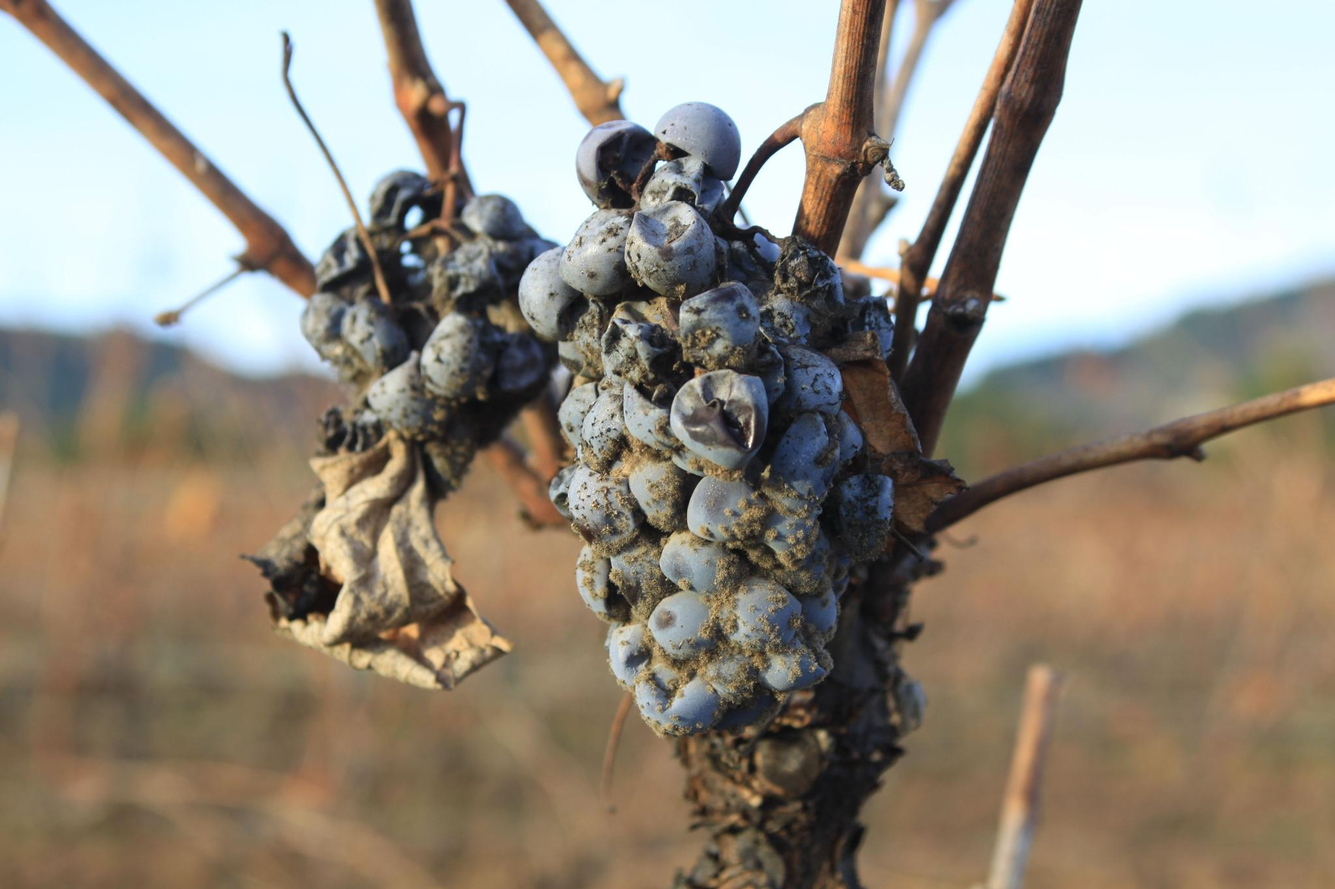Grape Overripe: (520, 102, 894, 736), (302, 170, 556, 523)
